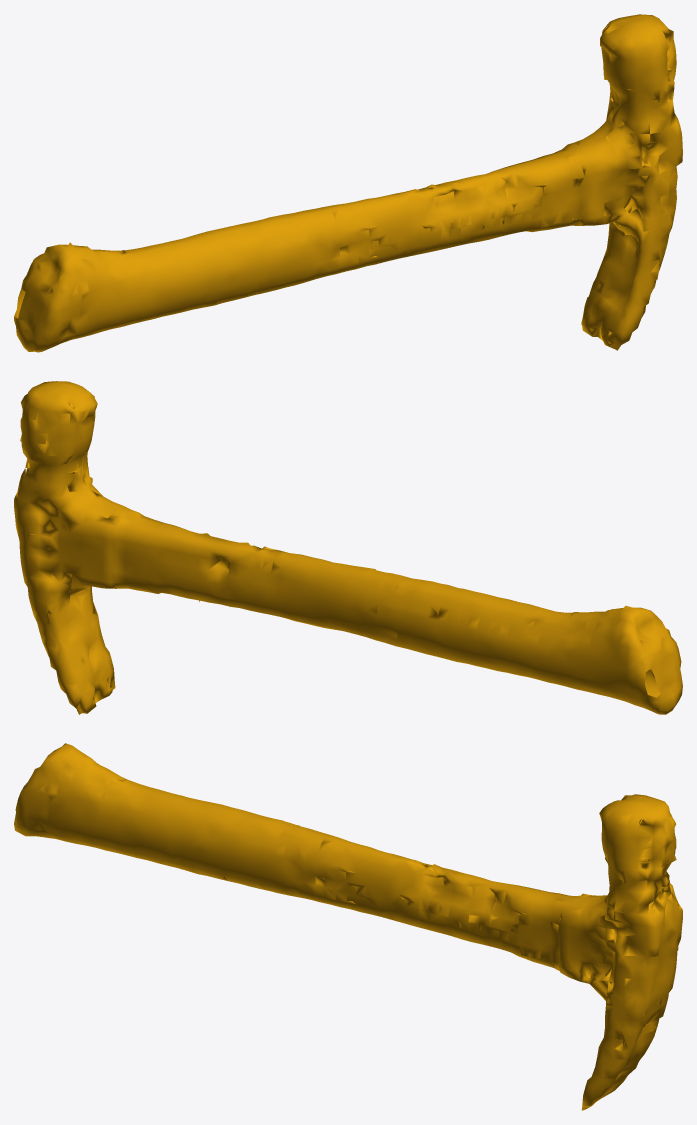
File: model_origin.obj
The picture shows the model from 3 angles, top to bottom: view 1: azimuth 30°, elevation 25°; view 2: azimuth 150°, elevation 25°; view 3: azimuth 330°, elevation 25°; orthographic projection.
Bounding box in the file's own units: 1.02 × 0.4654 × 0.1082.
